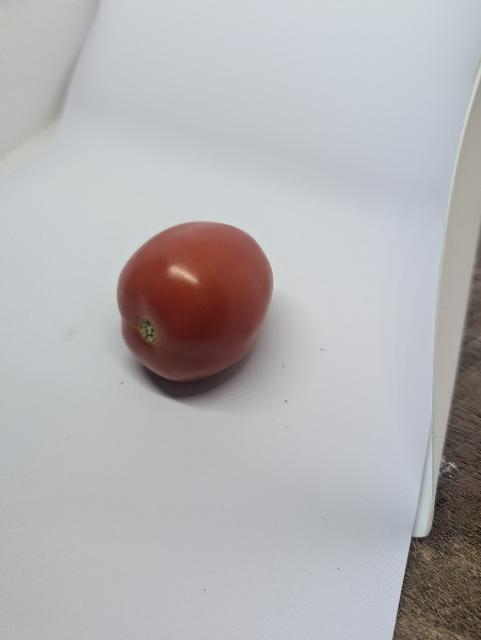red: (106, 211, 278, 407)
